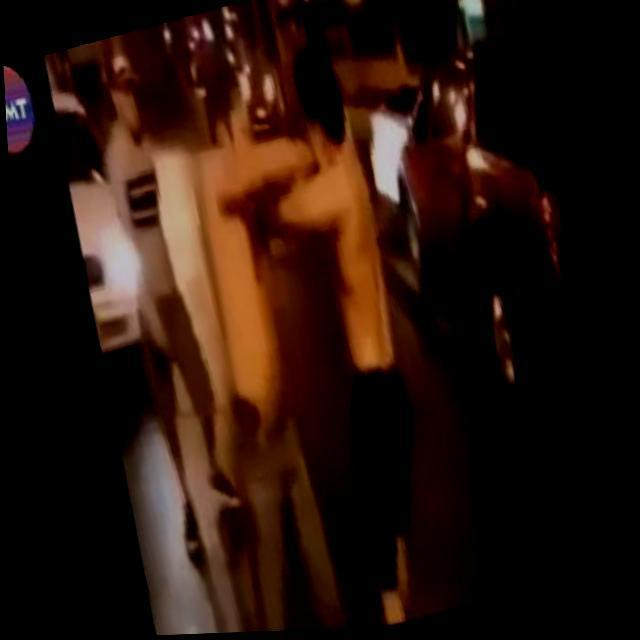fight: (154, 31, 484, 620)
